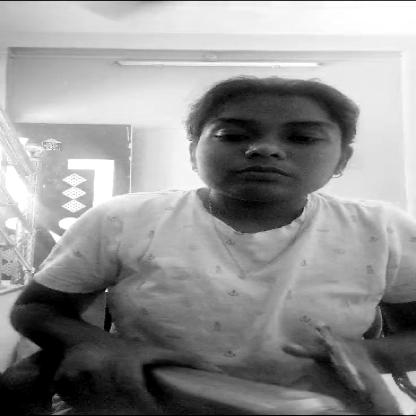Normal: (214, 103, 330, 198)
